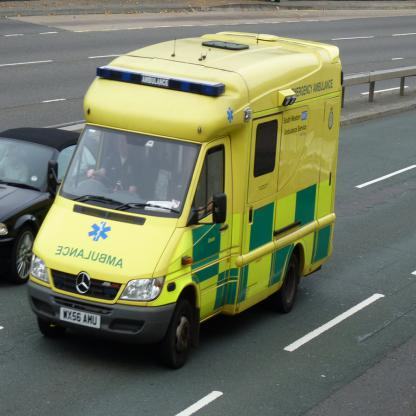Ambulance: (25, 28, 345, 367)
